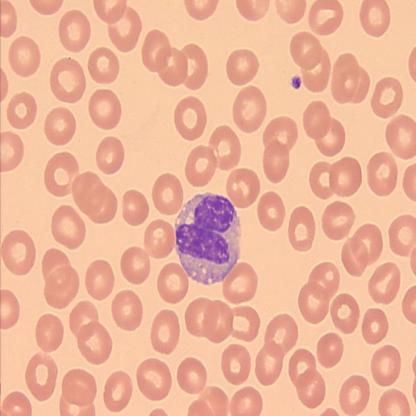Monocyte: (172, 190, 243, 285)
